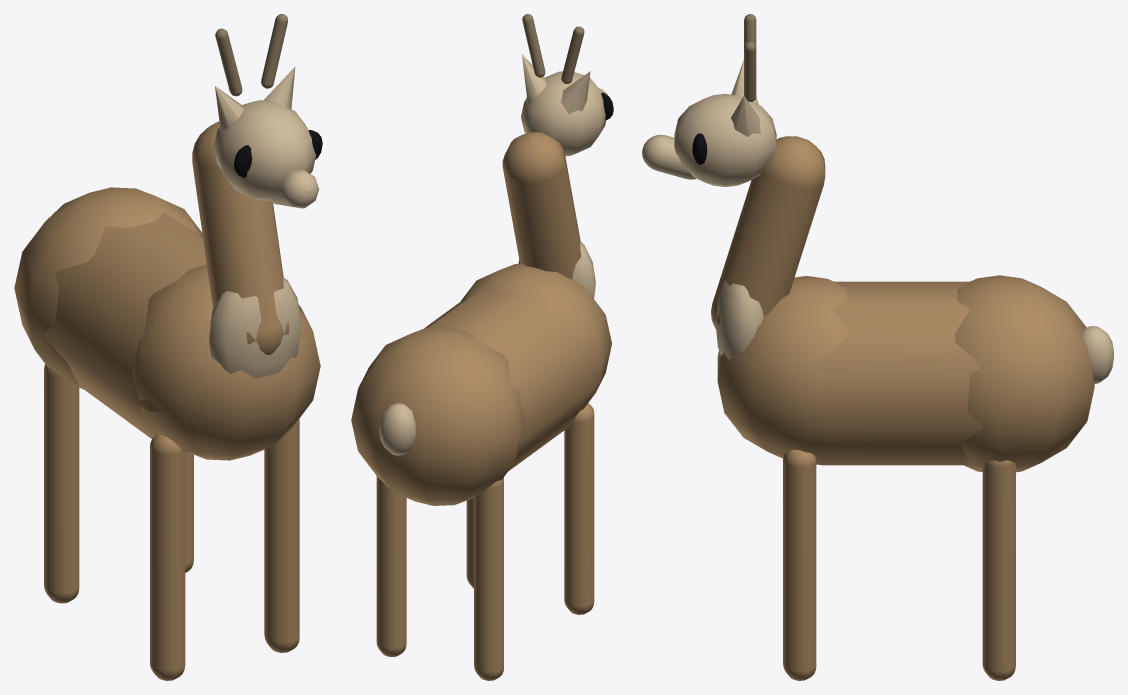
Rendered from borrowed.glb.
The picture shows the model from 3 angles, left to right: view 1: azimuth 30°, elevation 25°; view 2: azimuth 150°, elevation 25°; view 3: azimuth 270°, elevation 25°; orthographic projection. The views are drawn at different scales.
Visible parts, largest first — view 1: coat, pale, antlers, eyes; view 2: coat, pale, antlers; view 3: coat, pale, antlers.
Boxes of the visible parts, x1,y1,x2,y2 form: coat: (14,121,320,680); pale: (209,66,319,378); antlers: (215,14,287,96); eyes: (234,130,322,177); coat: (351,132,611,680); pale: (379,54,608,455); antlers: (522,14,584,83); coat: (711,136,1094,680); pale: (642,59,1113,383); antlers: (744,14,756,101).
Size of the model in its own units: 0.64 by 2.21 by 1.51.
